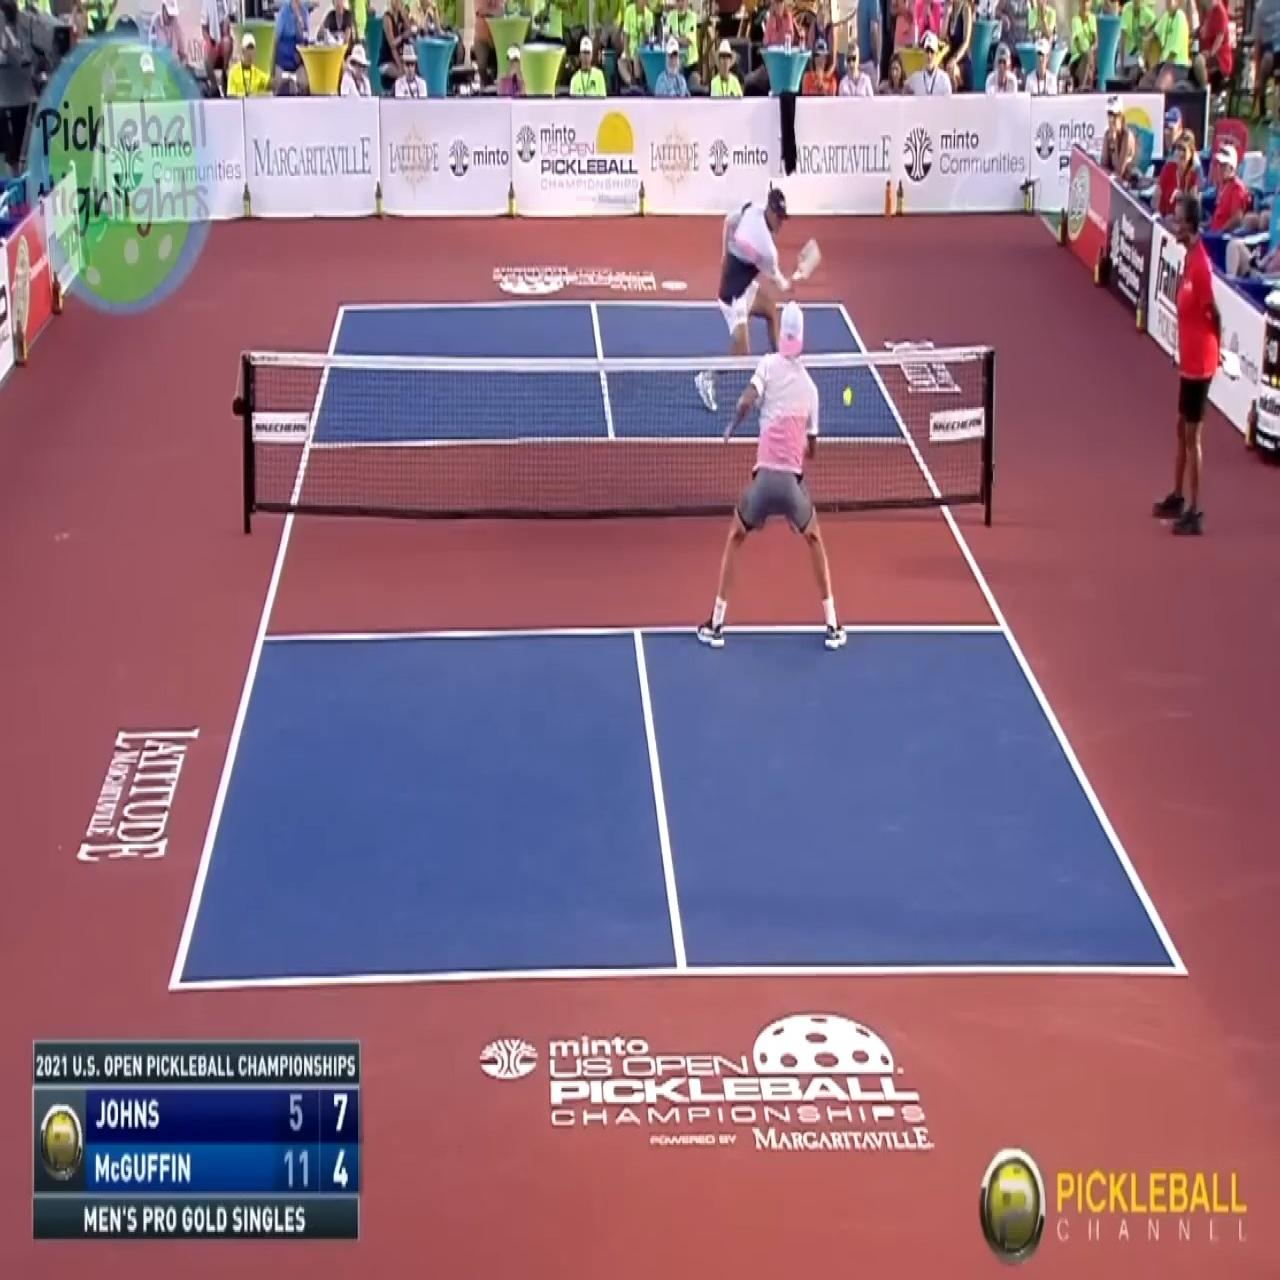pickleball: (843, 386, 855, 407)
